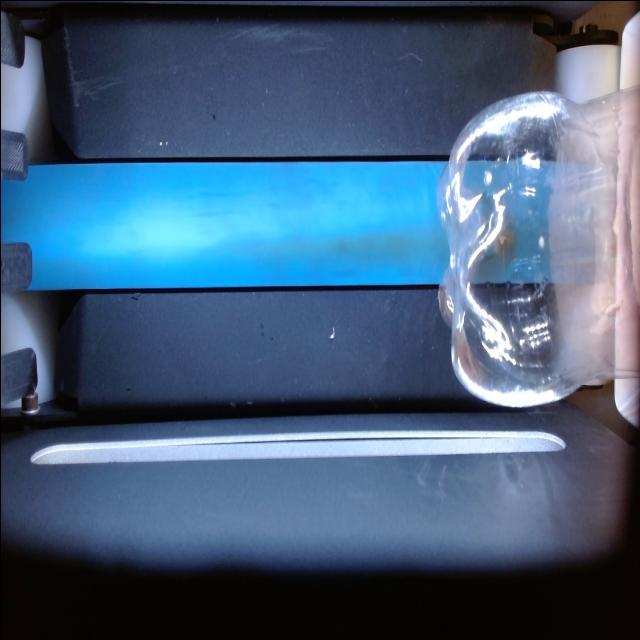bottom: (438, 86, 640, 406)
